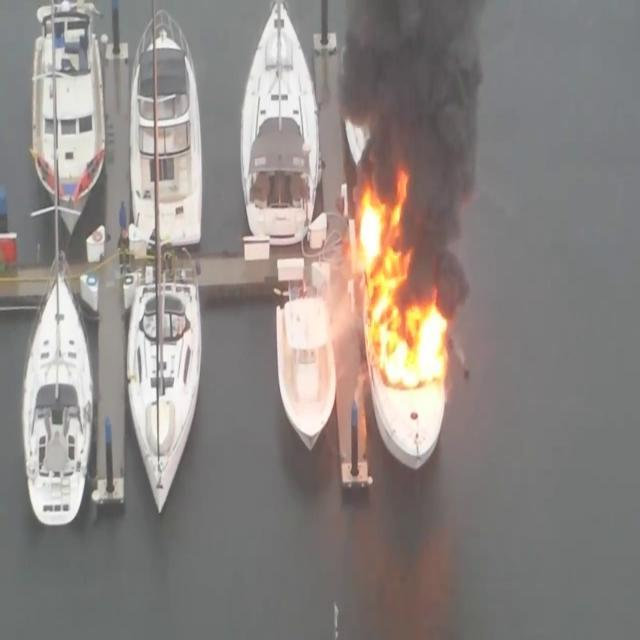Fire: (346, 165, 454, 399)
Smoke: (337, 0, 499, 224)
